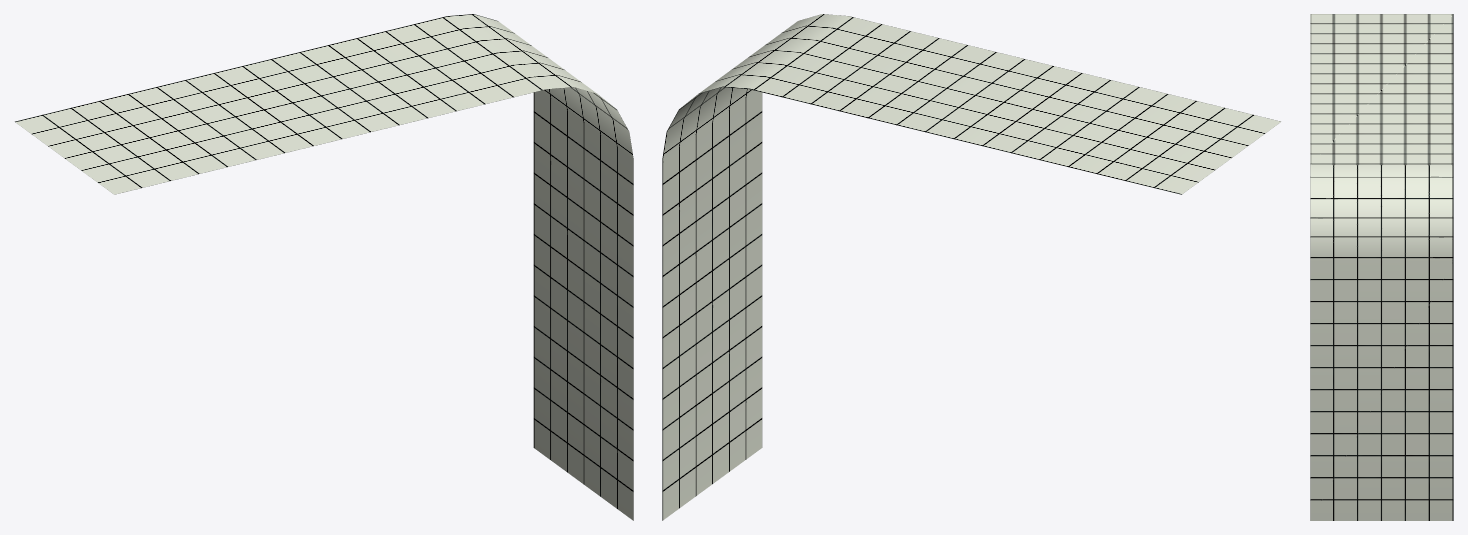
Rendered from Tunnel.fbx.
The picture shows the model from 3 angles, left to right: view 1: azimuth 30°, elevation 25°; view 2: azimuth 150°, elevation 25°; view 3: azimuth 270°, elevation 25°; orthographic projection. The views are drawn at different scales.
Parts seen in each view (by area): view 1: Tunnel; view 2: Tunnel; view 3: Tunnel.
Part boxes in pixels (bbox=[...]): Tunnel: bbox=[15, 14, 633, 520]; Tunnel: bbox=[662, 14, 1280, 520]; Tunnel: bbox=[1310, 14, 1453, 520].
Size of the model in its own units: 300 by 250 by 100.
